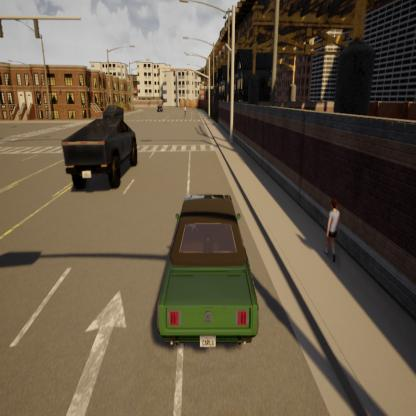Cars: (146, 171, 264, 363), (59, 114, 140, 199), (102, 104, 129, 127), (154, 102, 165, 114)
Pedestrian: (322, 193, 344, 274)
